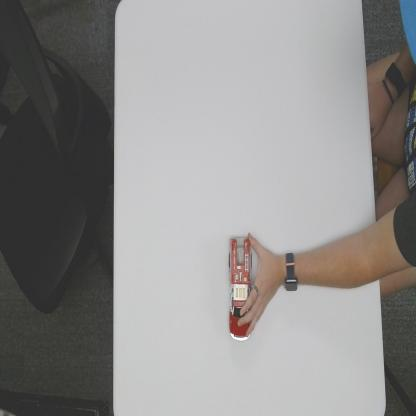Arm: (300, 219, 385, 295)
Firetruck: (228, 234, 252, 342)
Hand: (252, 235, 281, 342)
